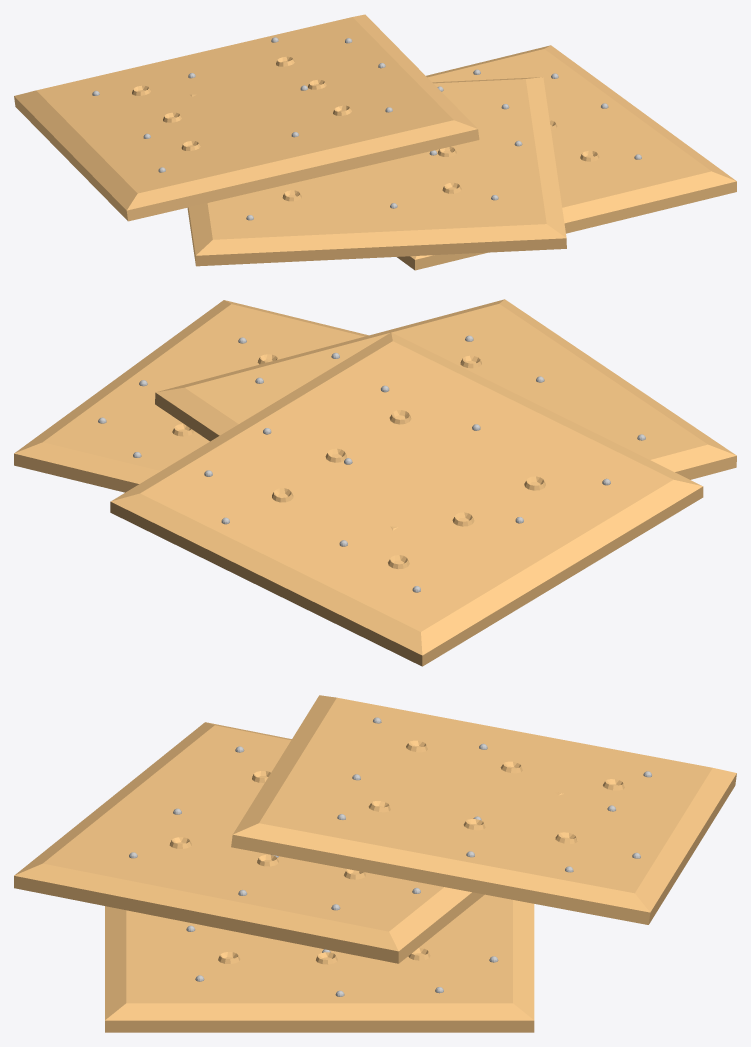
The model's file is saltine cracker.obj.
3 views of the same model, one above another, from view 1: azimuth 30°, elevation 25°; view 2: azimuth 150°, elevation 25°; view 3: azimuth 270°, elevation 25° (orthographic). The views are drawn at different scales.
Size of the model in its own units: 1.53 by 0.228 by 1.6.
